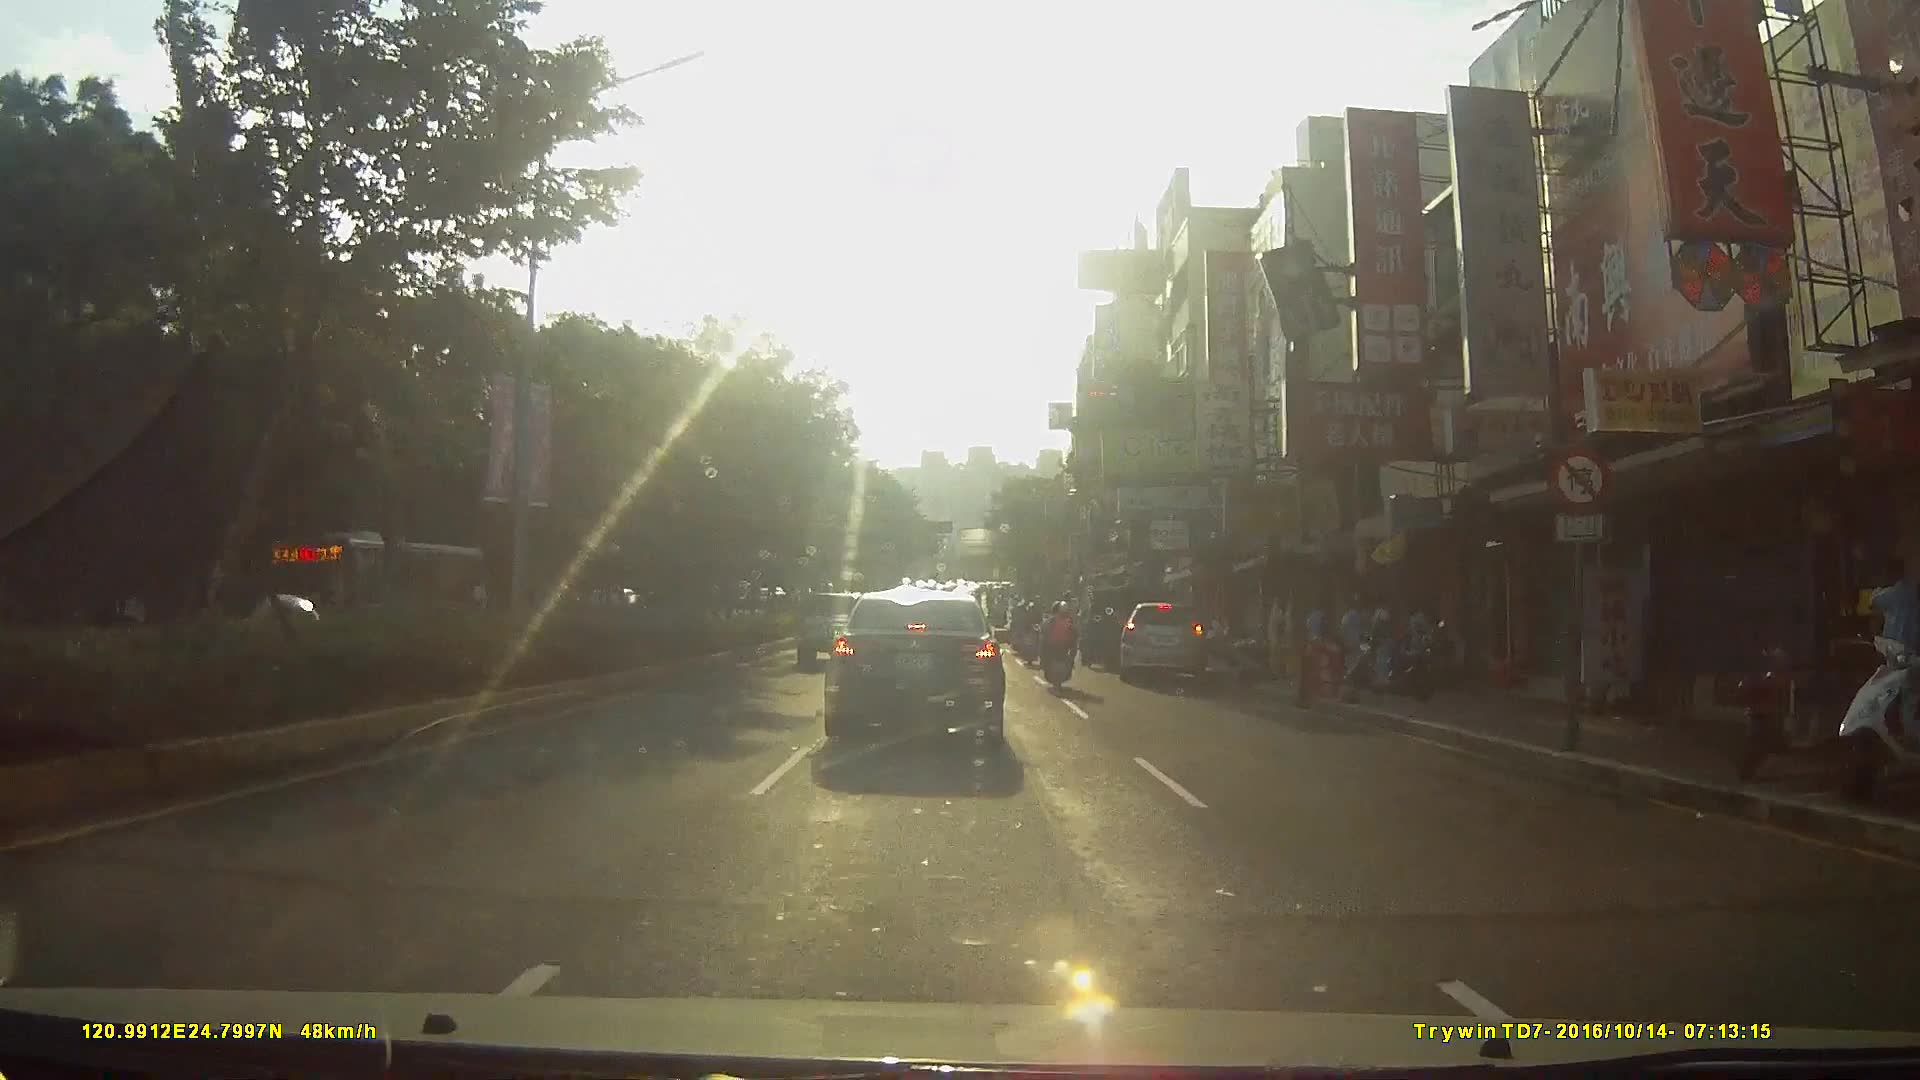pedestrian: (1861, 559, 1913, 740), (1373, 596, 1393, 656)
rider: (1044, 600, 1088, 698), (1017, 600, 1043, 666)
vehicle: (822, 588, 1031, 764), (255, 531, 488, 661), (1121, 602, 1215, 690), (1077, 578, 1159, 669)
